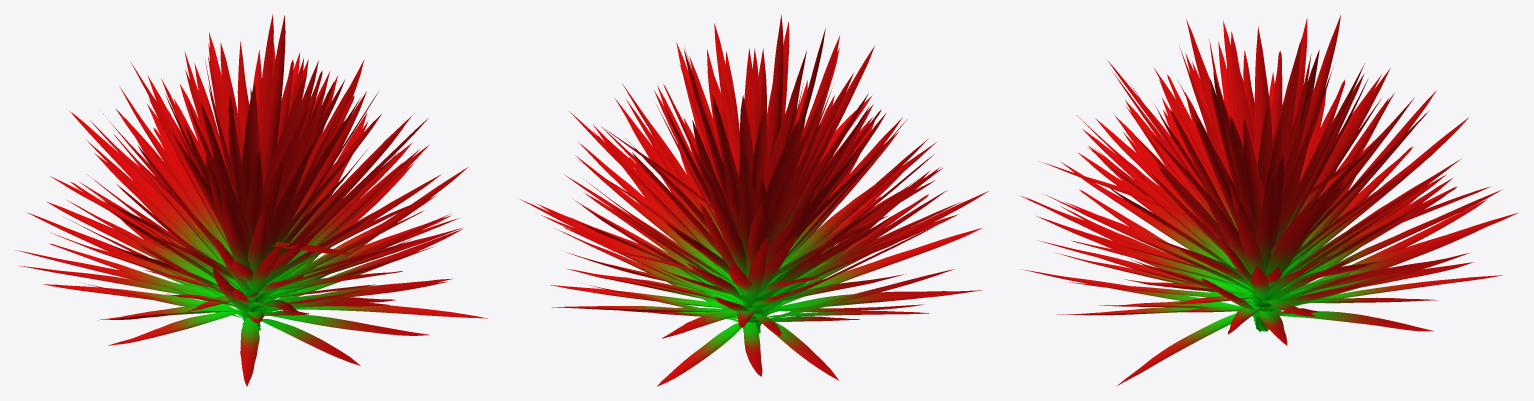
File: Var8_LOD0.fbx
3 views of the same model, side by side, from view 1: azimuth 30°, elevation 25°; view 2: azimuth 150°, elevation 25°; view 3: azimuth 270°, elevation 25° (orthographic). The views are drawn at different scales.
Parts seen in each view (by area): view 1: _pm33_Var8_LOD0; view 2: _pm33_Var8_LOD0; view 3: _pm33_Var8_LOD0.
Boxes of the visible parts, x1,y1,x2,y2 form: _pm33_Var8_LOD0: (15, 14, 487, 386); _pm33_Var8_LOD0: (520, 15, 988, 386); _pm33_Var8_LOD0: (1021, 15, 1518, 386).
Size of the model in its own units: 93.83 by 65.49 by 98.61.
